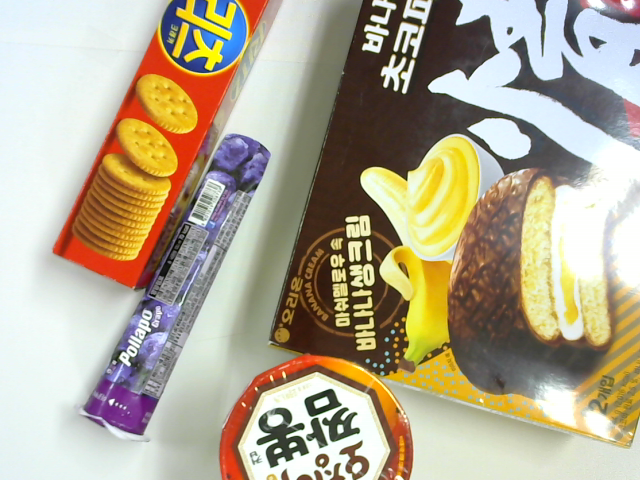Choco_Pie_Banana: (271, 1, 640, 448)
Ojjam: (221, 353, 416, 480)
Polapo_Grape: (80, 132, 271, 443)
Ritz_Cracker: (51, 1, 284, 293)
